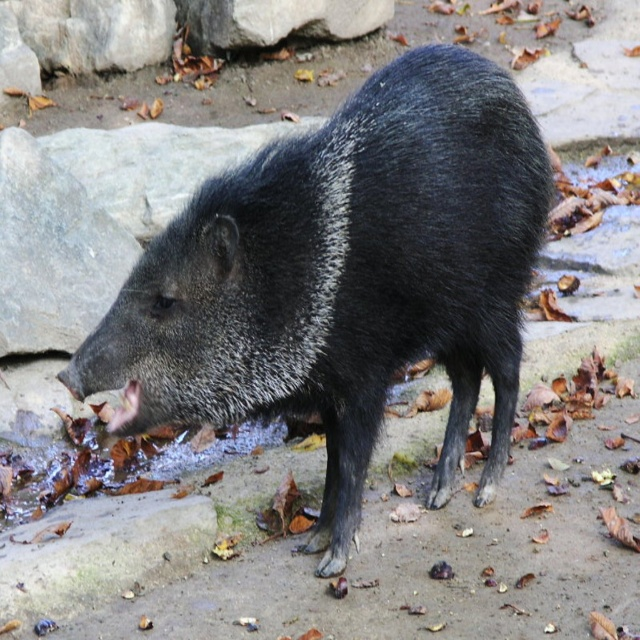Pig: (56, 42, 565, 576)
